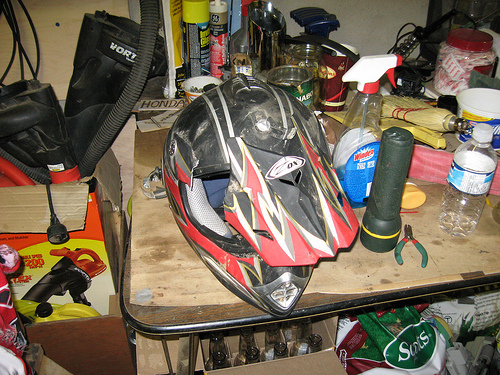helmet: (173, 94, 332, 304)
